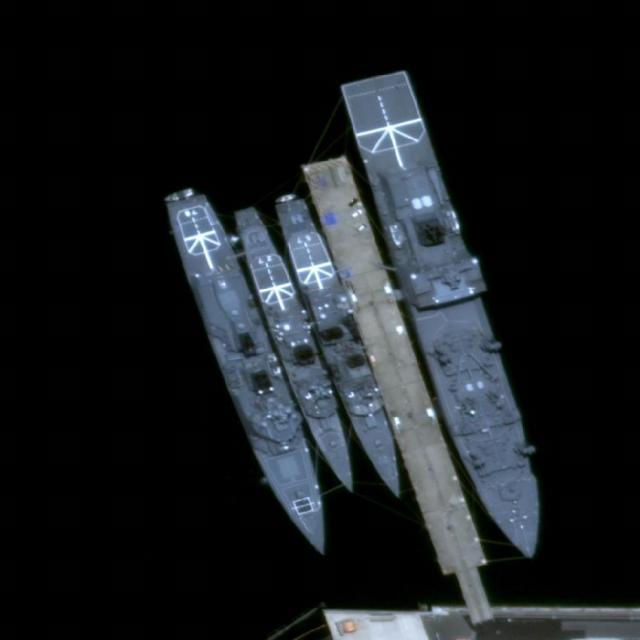Auxiliary Ships: (341, 64, 559, 569), (164, 190, 343, 570)
Destroyer: (268, 187, 414, 504), (231, 202, 365, 498)
Other Ship: (162, 186, 195, 204)
